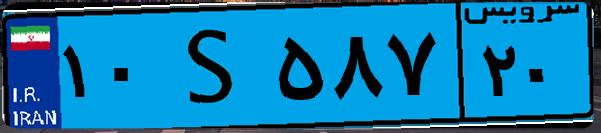0: (525, 38, 570, 115), (110, 28, 158, 98)
1: (57, 26, 110, 100)
2: (475, 38, 525, 113)
5: (270, 28, 330, 110)
7: (385, 28, 445, 110)
8: (330, 28, 385, 110)
S: (158, 12, 270, 120)
